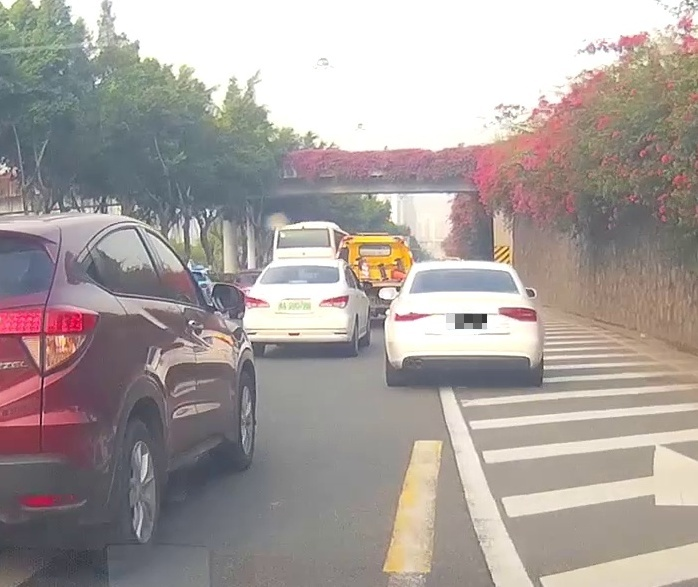L_light: (394, 310, 433, 322), (244, 296, 270, 309)
R_light: (498, 307, 537, 322), (319, 294, 349, 309)
T_light: (449, 269, 476, 272), (289, 280, 308, 284)
day-left: (384, 261, 544, 387)
day-no: (243, 258, 352, 358)
plate_1: (446, 314, 487, 329)
